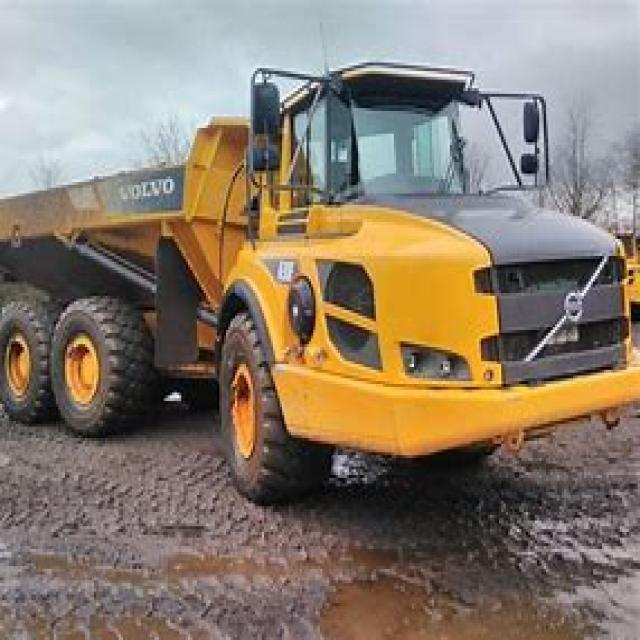dump_truck: (11, 51, 638, 509)
